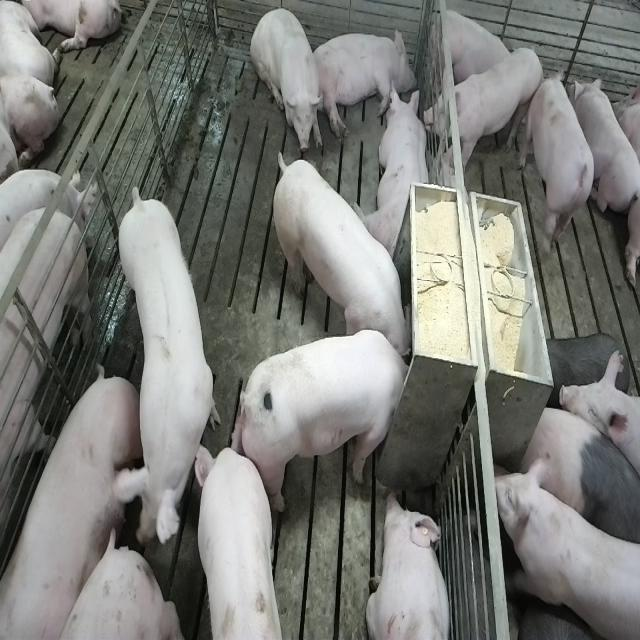Feeding: (242, 328, 419, 513), (268, 142, 410, 358)
Lateral_lying: (309, 24, 418, 140)
Sitting: (250, 4, 324, 155)
Standing: (0, 198, 93, 640), (113, 189, 219, 556), (496, 460, 638, 640), (521, 397, 639, 565), (198, 447, 288, 640), (421, 48, 544, 177), (526, 63, 596, 253)
Sternal_lying: (366, 490, 454, 640), (360, 82, 432, 264), (430, 5, 514, 94)
